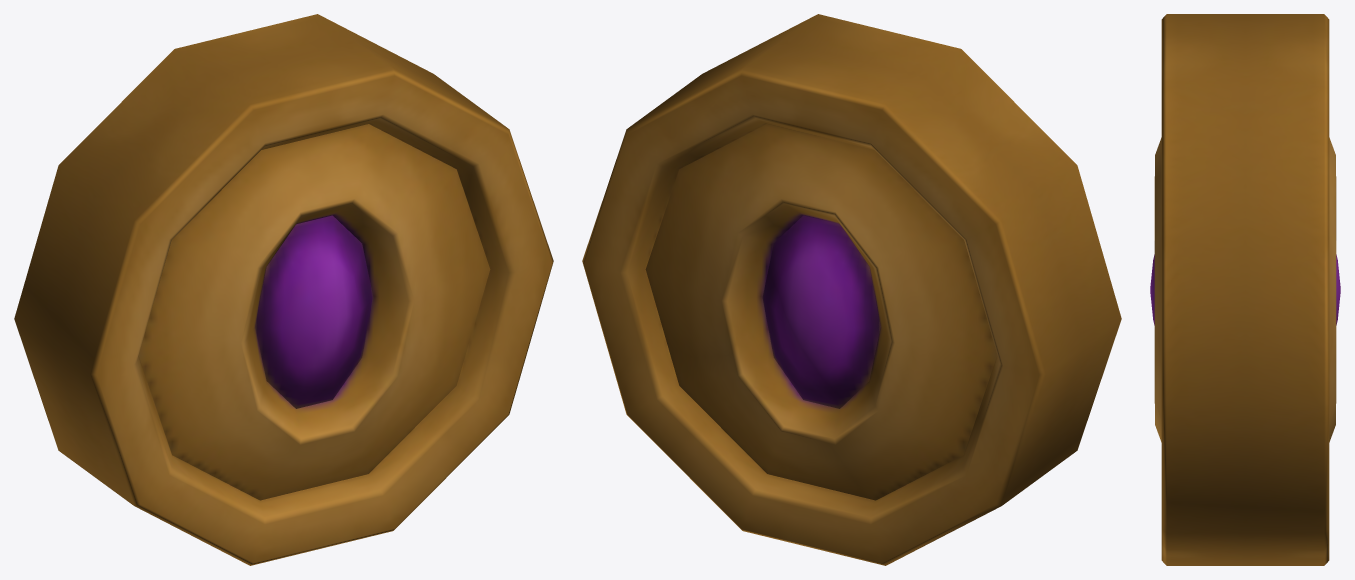
File: coin_model.glb
3 views of the same model, side by side, from view 1: azimuth 30°, elevation 25°; view 2: azimuth 150°, elevation 25°; view 3: azimuth 270°, elevation 25° (orthographic). The views are drawn at different scales.
Visible parts, largest first — view 1: coin_t8; view 2: coin_t8; view 3: coin_t8.
Part boxes in pixels (x1,y1,x2,y2): coin_t8: [14, 14, 553, 565]; coin_t8: [582, 14, 1121, 565]; coin_t8: [1150, 14, 1340, 565].
Bounding box in the file's own units: 0.6562 × 0.624 × 0.2245.
Materials: 1 (1 with a texture image).
